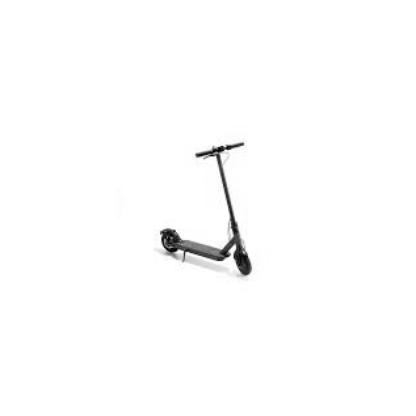bike: (159, 141, 253, 277)
